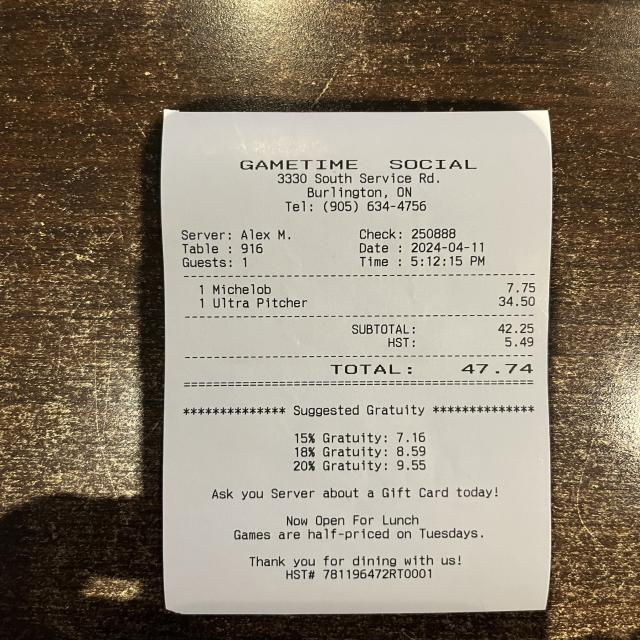item: (208, 295, 542, 316), (208, 277, 541, 298)
store_name: (230, 152, 489, 176)
total_amount: (327, 354, 541, 382)
transaction_date: (404, 239, 491, 256)
